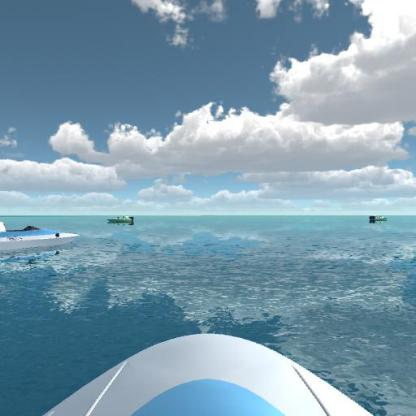usv0: (105, 209, 136, 231), (363, 209, 389, 227)
usv1: (0, 214, 80, 263)
